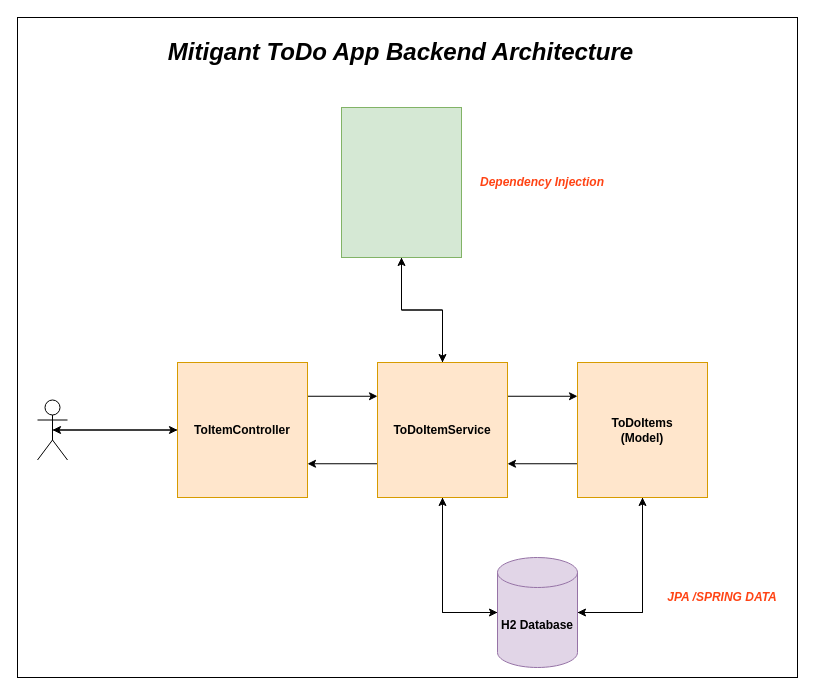
The diagram is 825 pixels wide and 695 high, and some of its shapes have lost their labels. The centre of each missing label's shape, as x and y in pixels:
"Client" goes at [52,429].
"ToDoItemRepository" goes at [401,182].
